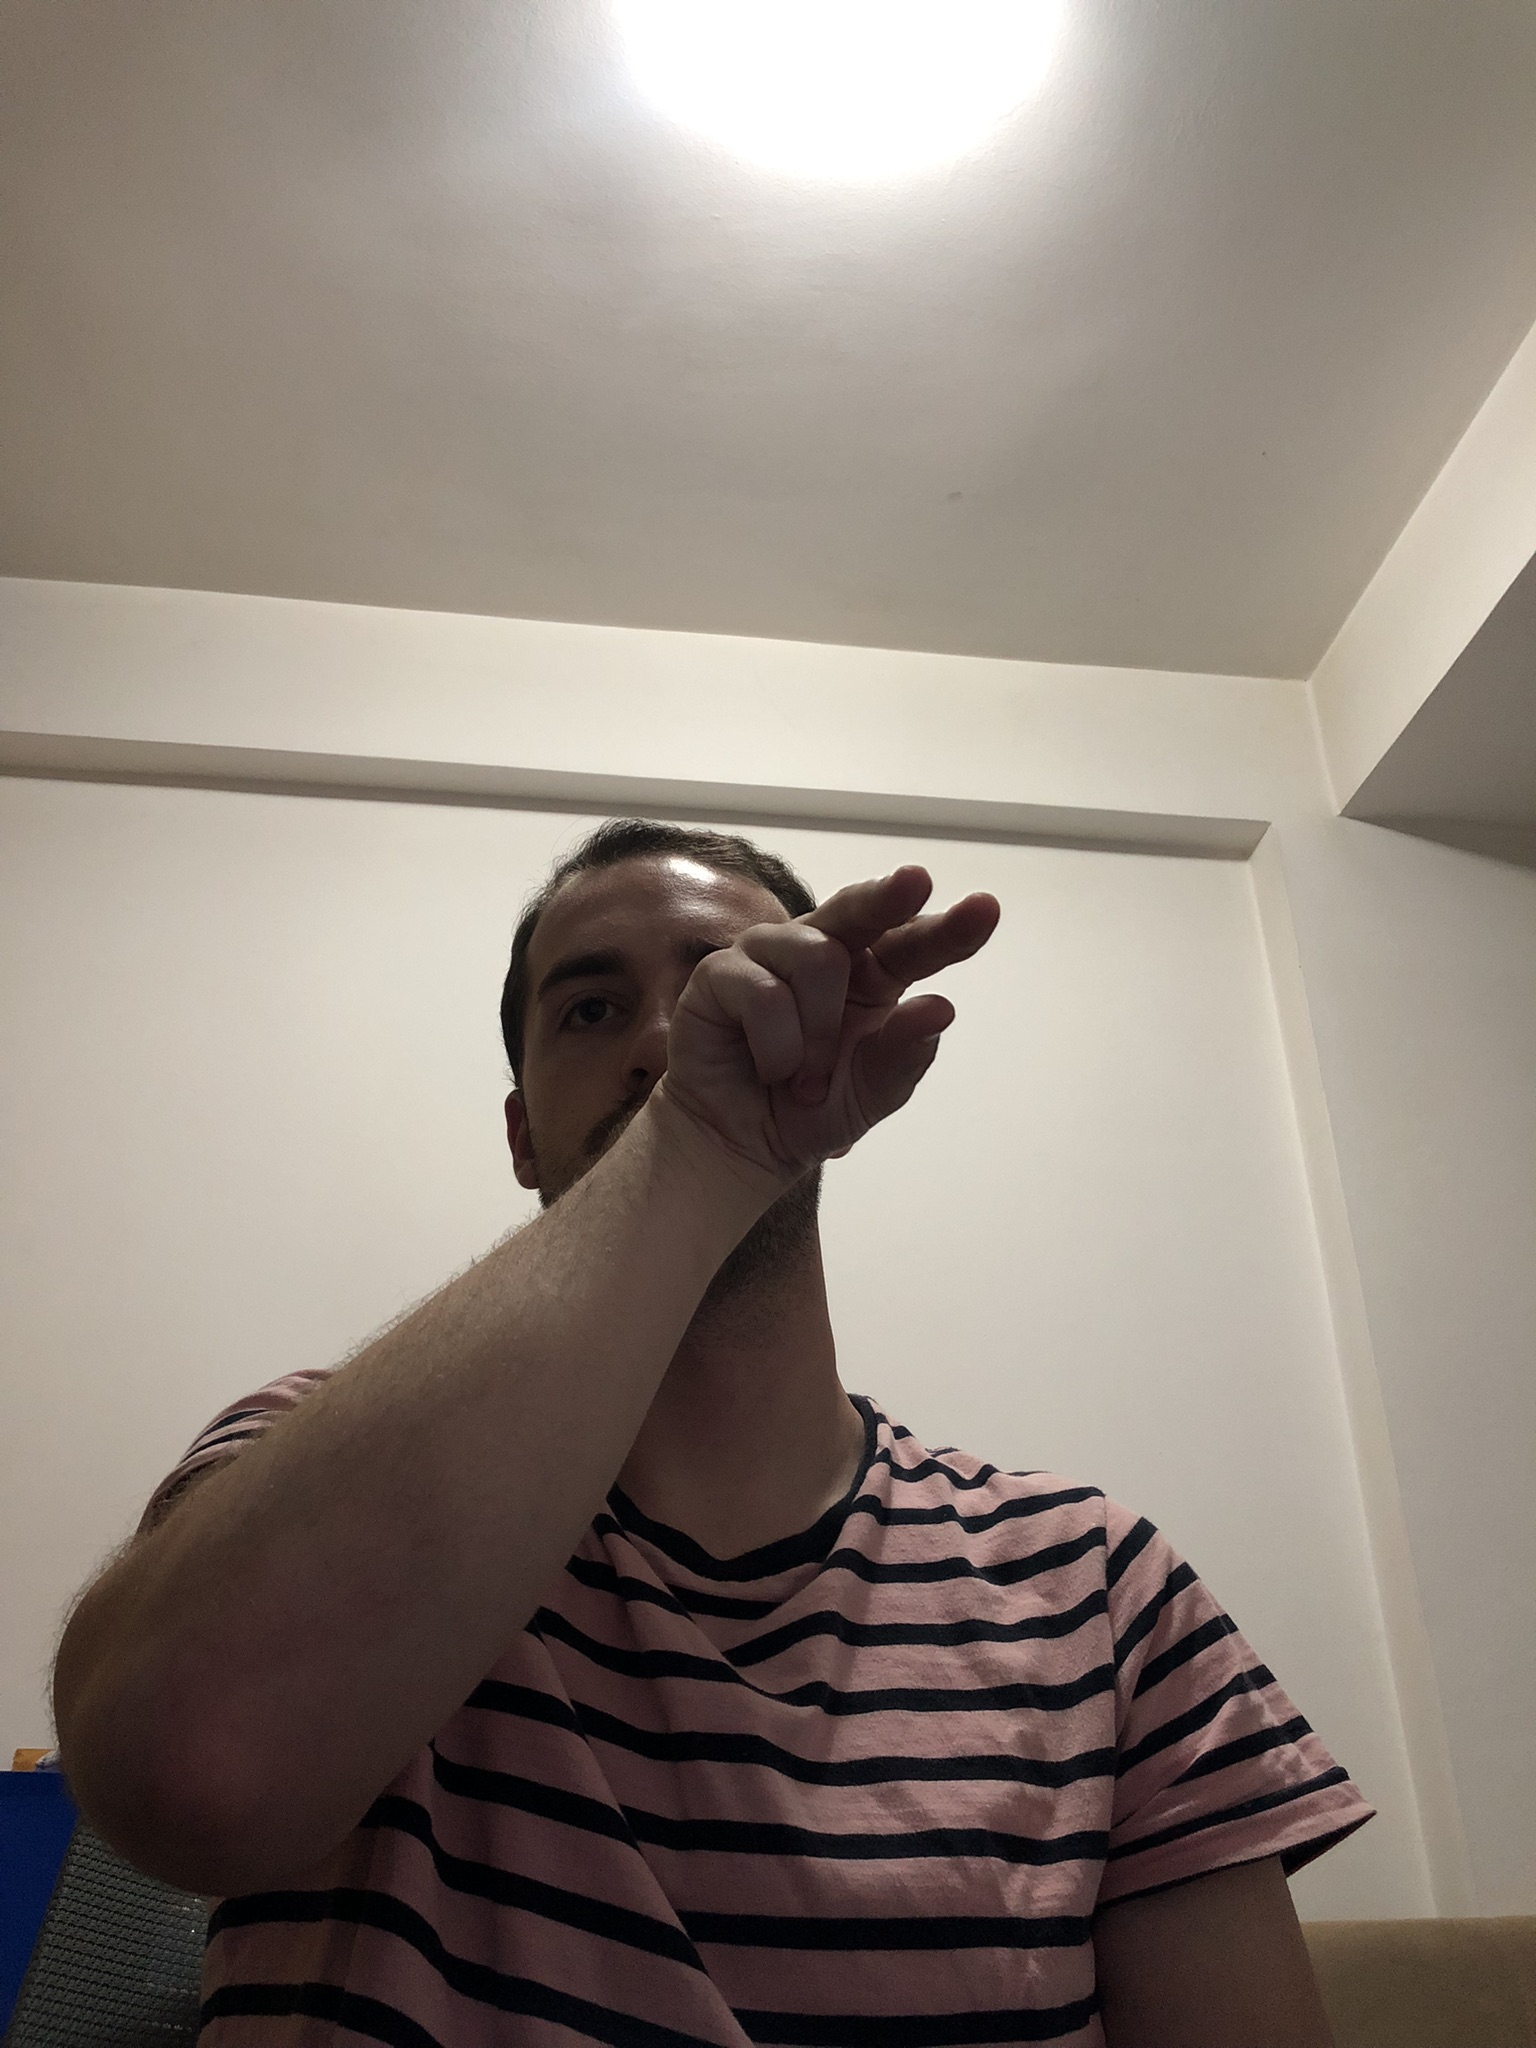No: (665, 855, 1007, 1195)
